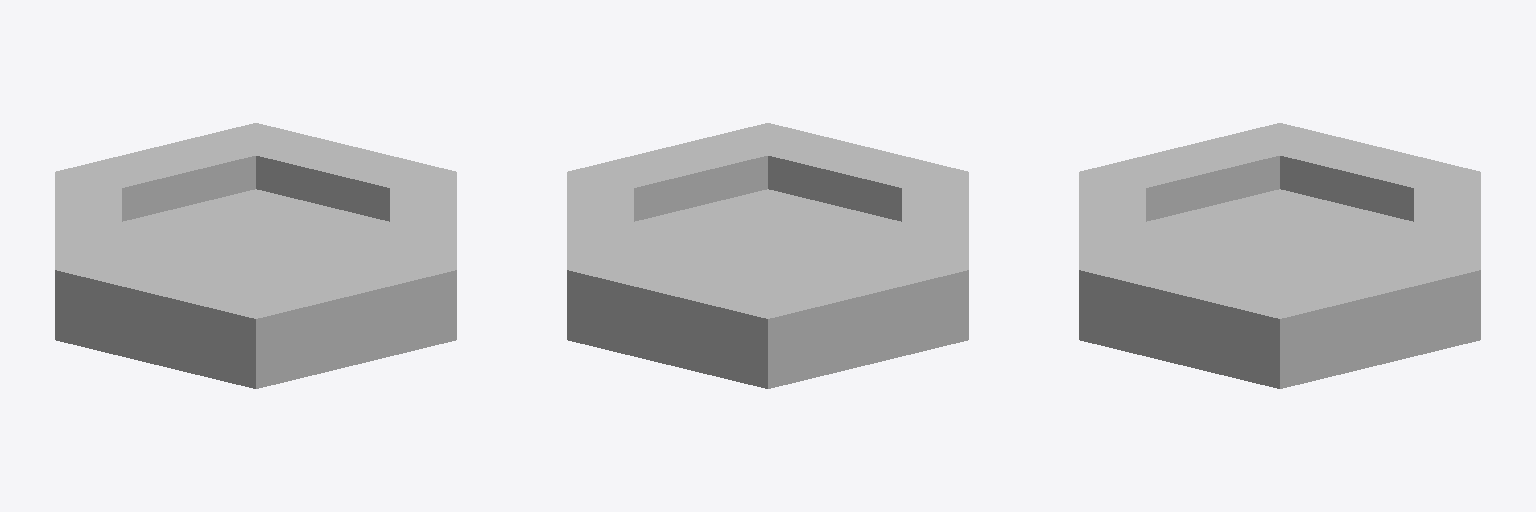
The model's file is Score.obj.
The picture shows the model from 3 angles: view 1: azimuth 30°, elevation 25°; view 2: azimuth 150°, elevation 25°; view 3: azimuth 270°, elevation 25°; orthographic projection.
Parts seen in each view (by area): view 1: Pipe; view 2: Pipe; view 3: Pipe.
Boxes of the visible parts, x1,y1,x2,y2 form: Pipe: [55, 123, 456, 388]; Pipe: [567, 123, 968, 388]; Pipe: [1079, 123, 1480, 388].
Bounding box in the file's own units: 1.5 × 0.25 × 1.3.